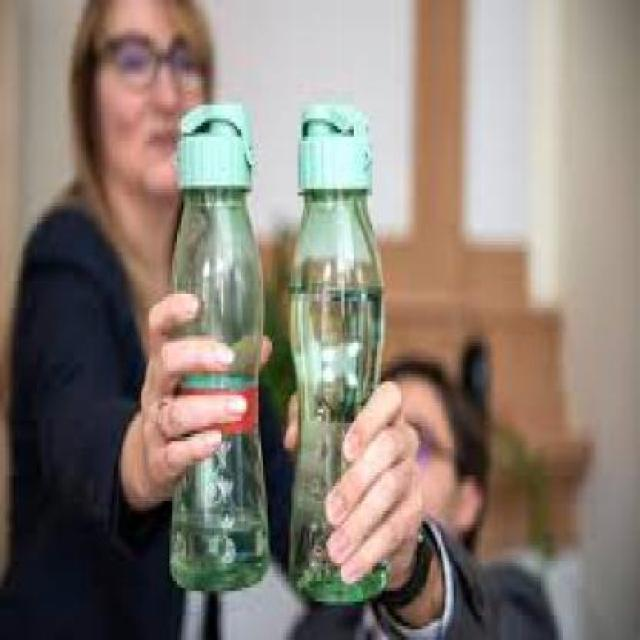Drinking: (277, 90, 395, 602), (158, 91, 274, 609)
